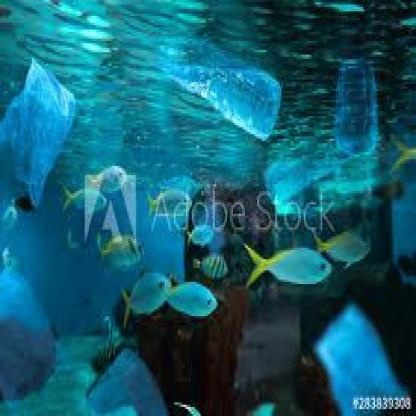pbag: (1, 56, 94, 204), (2, 257, 71, 405), (91, 343, 169, 416)
pbottle: (148, 22, 292, 138), (319, 50, 381, 161), (262, 148, 352, 209)
